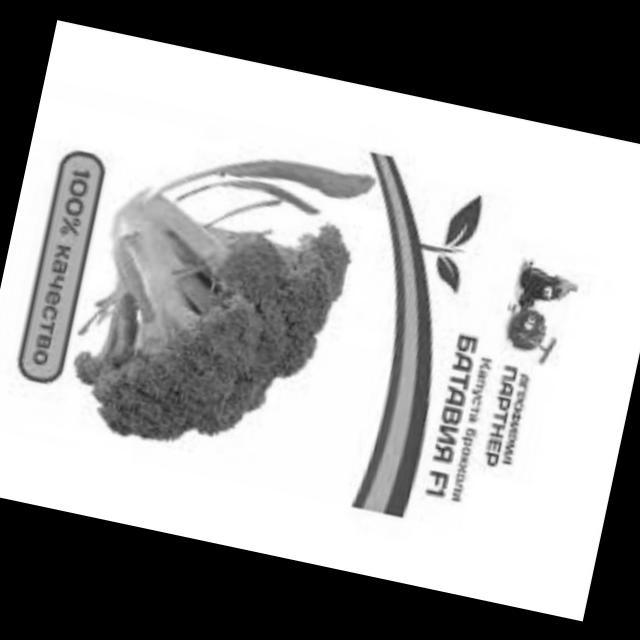bong cai xanh: (38, 167, 364, 502)
